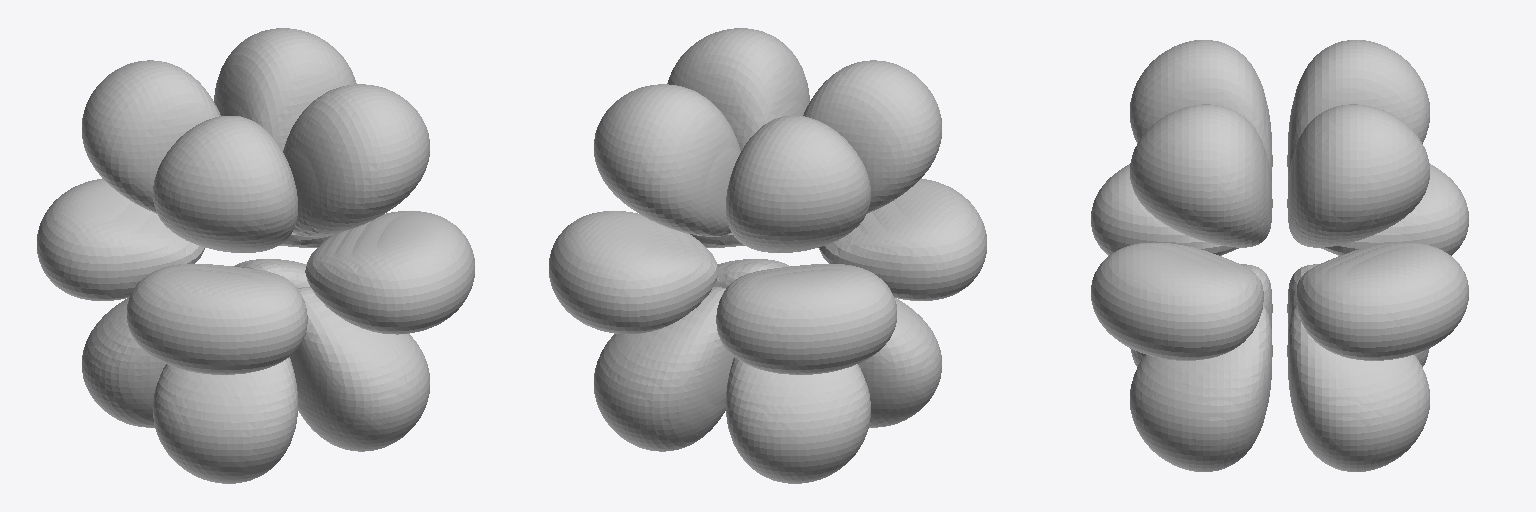
The model's file is orb_n=5_ l=4 _m=-2.obj.
The picture shows the model from 3 angles: view 1: azimuth 30°, elevation 25°; view 2: azimuth 150°, elevation 25°; view 3: azimuth 270°, elevation 25°; orthographic projection.
Visible parts, largest first — view 1: orb_n=5__l=4__m=-2; view 2: orb_n=5__l=4__m=-2; view 3: orb_n=5__l=4__m=-2.
Boxes of the visible parts, <box> form: orb_n=5__l=4__m=-2: <box>37,28,474,483</box>; orb_n=5__l=4__m=-2: <box>549,28,986,483</box>; orb_n=5__l=4__m=-2: <box>1091,40,1468,471</box>.
Bounding box in the file's own units: 79.07 × 81.99 × 79.07.